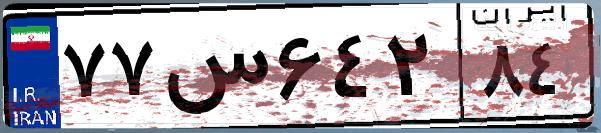2: (385, 28, 445, 110)
4: (330, 28, 385, 110), (525, 38, 570, 115)
6: (270, 28, 330, 110)
7: (57, 26, 110, 100), (110, 28, 158, 98)
8: (475, 38, 525, 113)
س: (158, 20, 270, 120)
